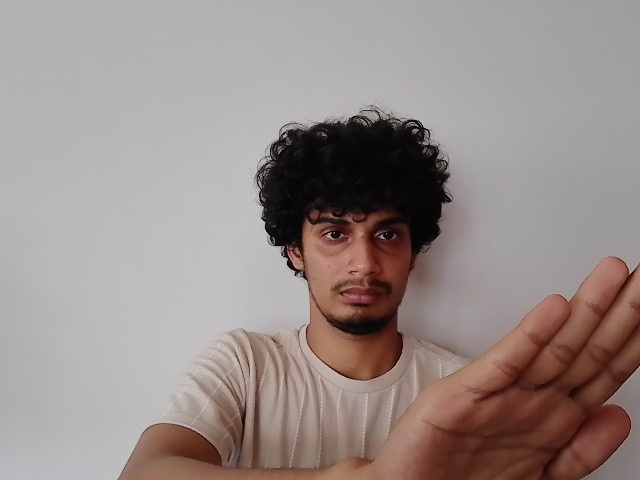hello: (398, 257, 640, 480)
